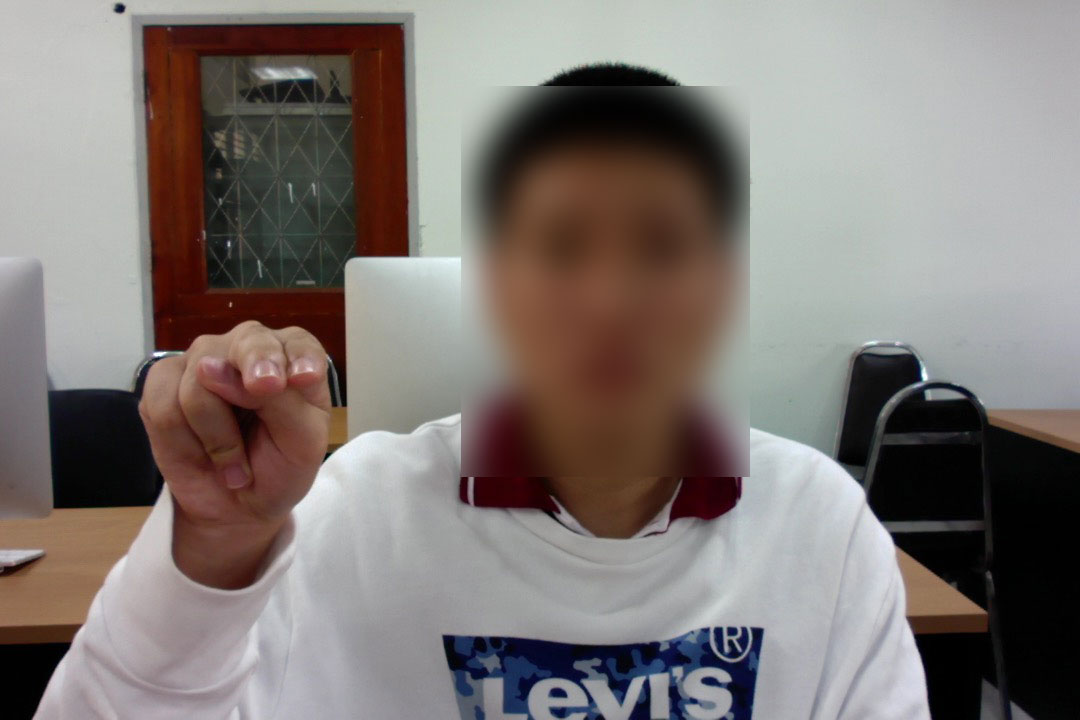nor: (135, 318, 337, 543)
